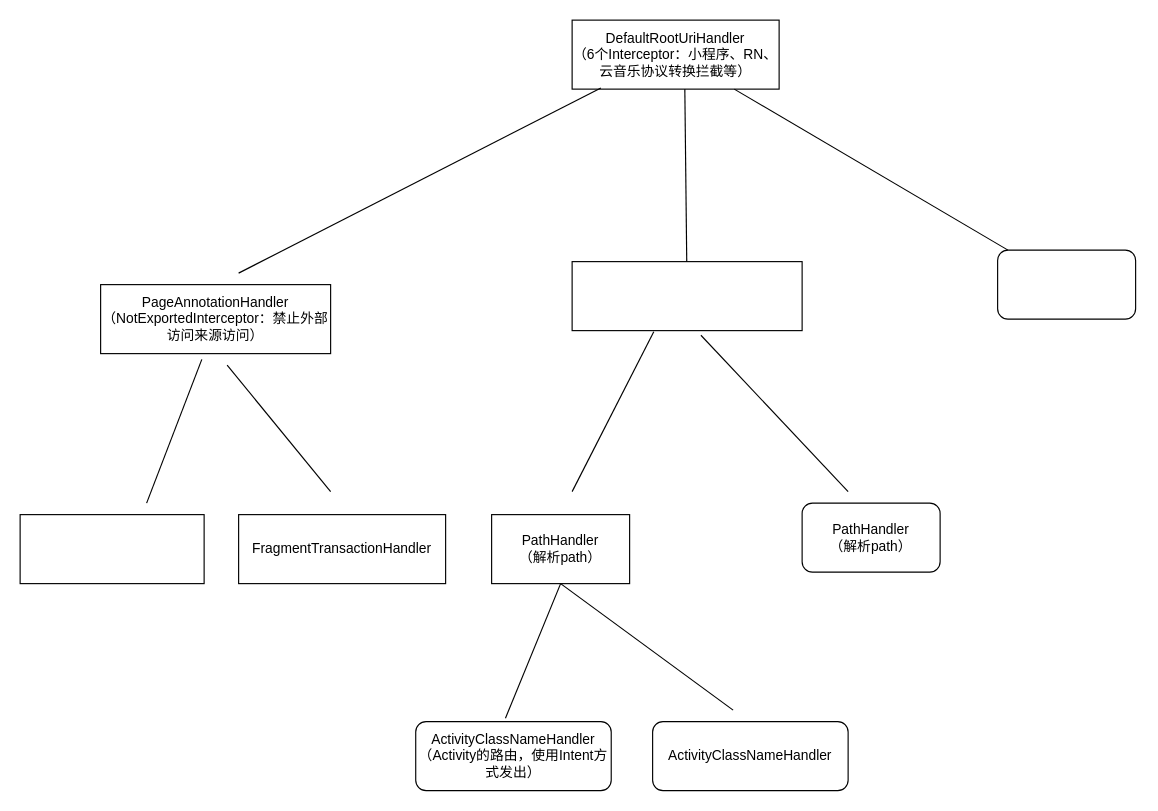
The diagram is 1158 pixels wide and 811 high, and some of its shapes have lost their labels. The shapes that lost their labels are listed below. From the top down, each one's centre as x and y in pixels, then its label:
At point (686, 295): "UriAnnotationHandler （解析schema://host）".
At point (1066, 284): "StartUriHandler （最后的兜底，使用 `Intent`策略发送请求）".
At point (111, 548): "FragmentTransactionHandler （生成Fragment）".
